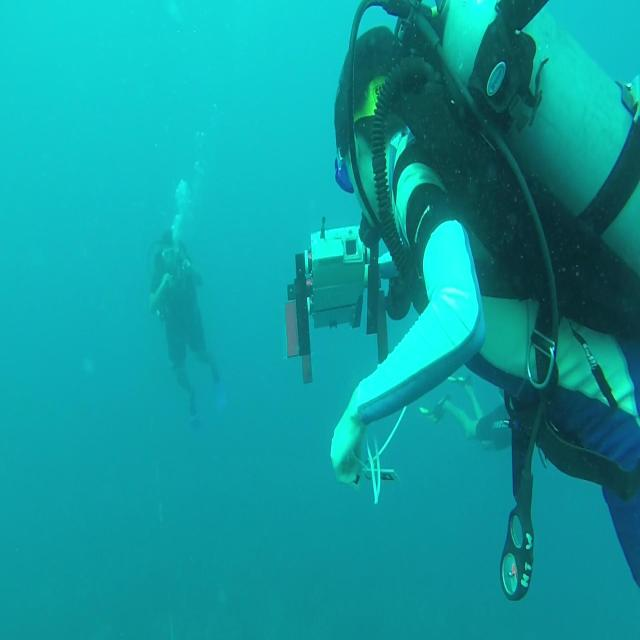human: (323, 2, 639, 602), (148, 228, 222, 426)
